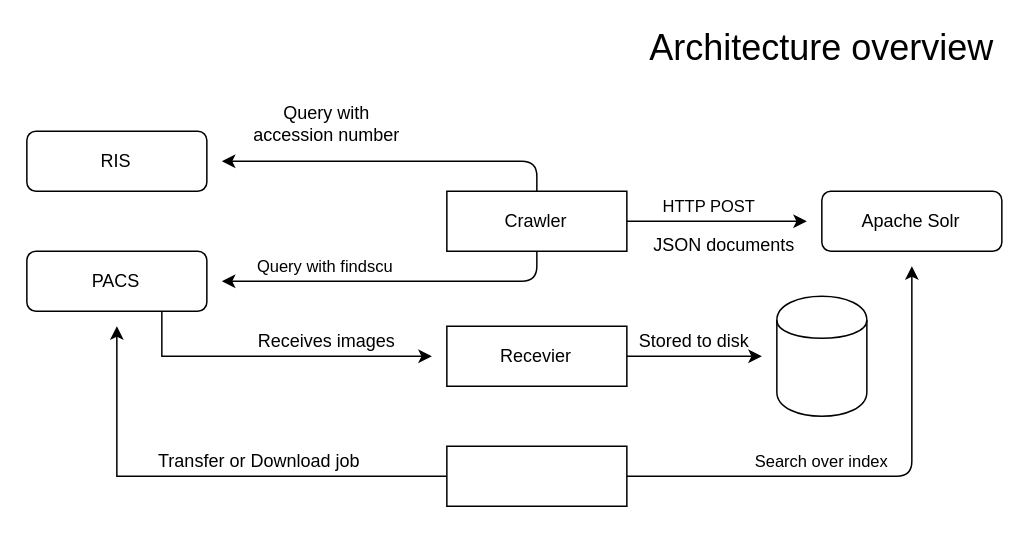
This 1028x533 diagram has some shape labels left out. Here are the shapes that lost their labels. From the top down, the centre of each, then its label:
At [821,355]: "Shared Drive".
At [536,475]: "Web application".
